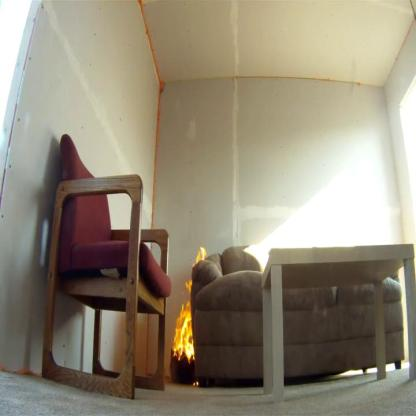fire: (173, 301, 196, 364), (194, 242, 206, 265), (185, 278, 193, 295)
